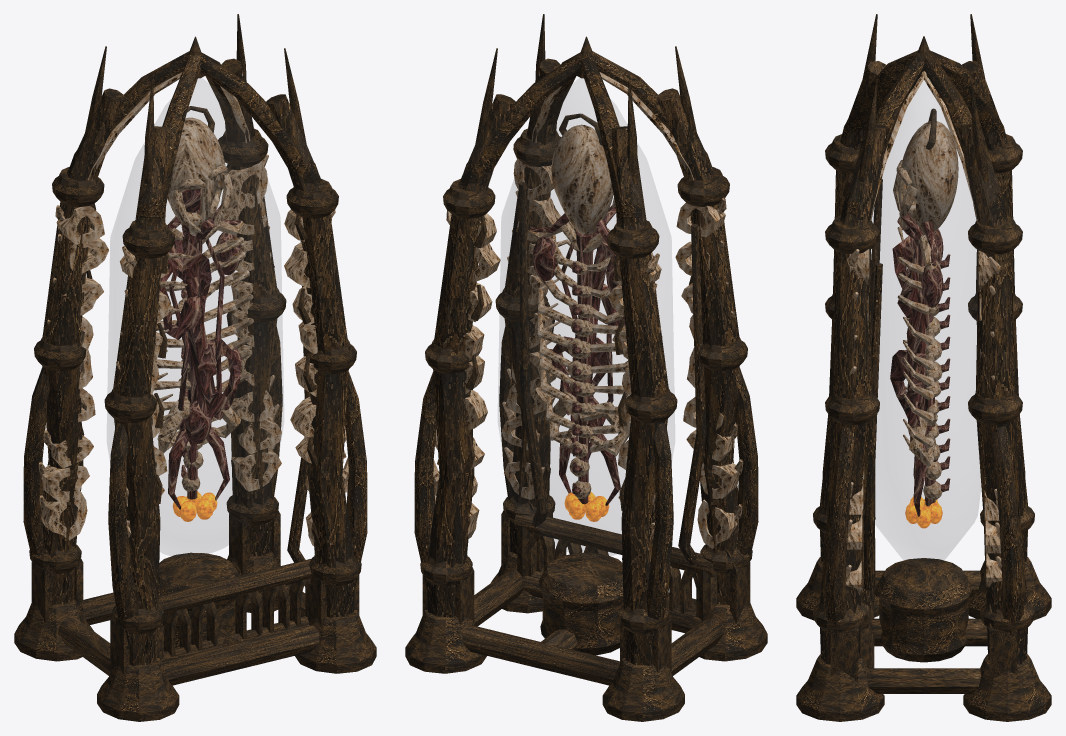
The model's file is nursery_gestation_engine.glb.
3 renders of one model, left to right at view 1: azimuth 30°, elevation 25°; view 2: azimuth 150°, elevation 25°; view 3: azimuth 270°, elevation 25°, orthographic.
Visible parts, largest first — view 1: Runtime nursery brass, Runtime nursery shell, Runtime nursery bone, Runtime nursery tissue, Runtime nursery amber; view 2: Runtime nursery brass, Runtime nursery shell, Runtime nursery bone, Runtime nursery tissue, Runtime nursery amber; view 3: Runtime nursery brass, Runtime nursery shell, Runtime nursery bone, Runtime nursery tissue, Runtime nursery amber.
Boxes of the visible parts, x1,y1,x2,y2 form: Runtime nursery brass: [14, 14, 376, 721]; Runtime nursery shell: [107, 78, 283, 557]; Runtime nursery bone: [38, 72, 348, 545]; Runtime nursery tissue: [159, 188, 242, 509]; Runtime nursery amber: [172, 491, 217, 521]; Runtime nursery brass: [405, 14, 767, 721]; Runtime nursery shell: [498, 78, 674, 557]; Runtime nursery bone: [433, 72, 743, 568]; Runtime nursery tissue: [529, 205, 625, 505]; Runtime nursery amber: [564, 491, 609, 521]; Runtime nursery brass: [796, 14, 1051, 721]; Runtime nursery shell: [870, 81, 980, 565]; Runtime nursery bone: [845, 71, 1002, 595]; Runtime nursery tissue: [890, 204, 950, 516]; Runtime nursery amber: [905, 496, 942, 528].
Bounding box in the file's own units: 3.85 × 8.43 × 3.15.
5 materials, 4 textured.
